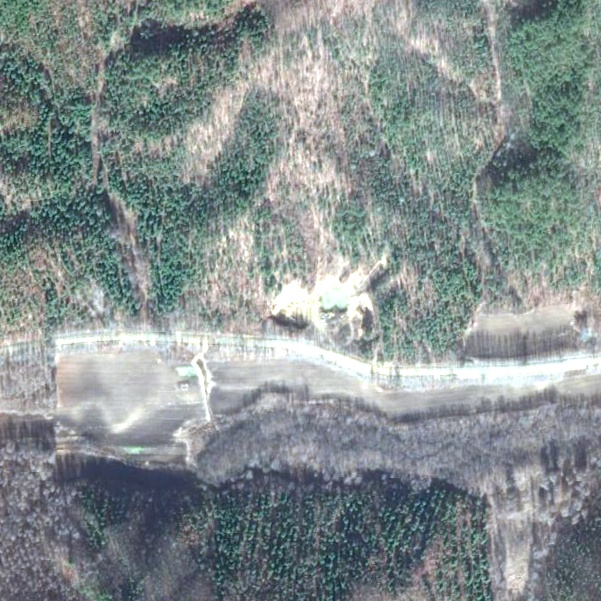slope: (259, 249, 405, 344)
